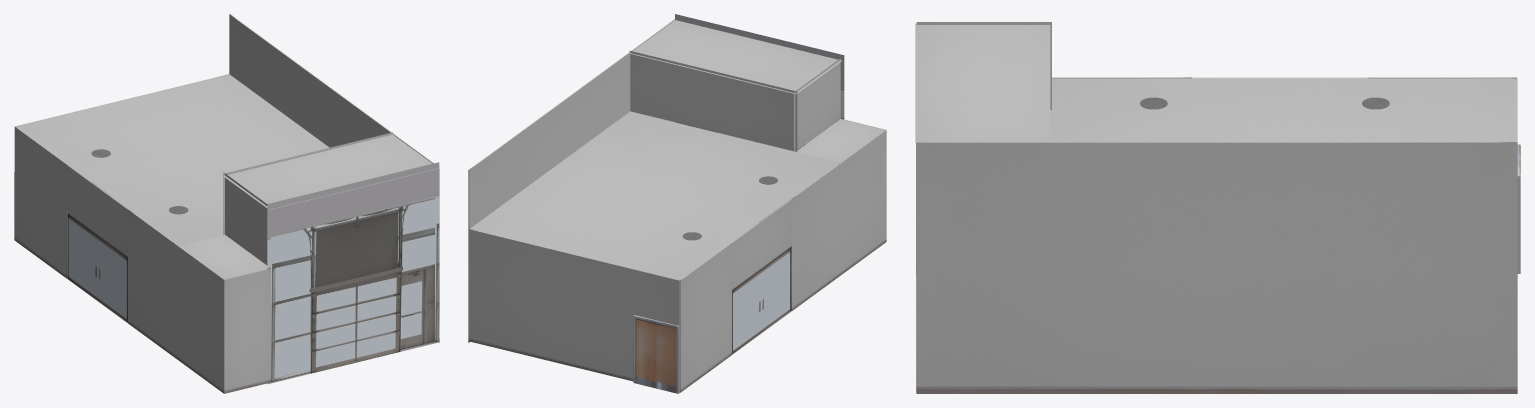
File: newblendertest.gltf
3 views of the same model, side by side, from view 1: azimuth 30°, elevation 25°; view 2: azimuth 150°, elevation 25°; view 3: azimuth 270°, elevation 25° (orthographic). The views are drawn at different scales.
Parts seen in each view (by area): view 1: frontdoor, ceiling, frontwallleft.001, backwall, ceiling2.003, frontwallleft, windowwall.000, sidedoor, blankwall1, ceiling2.001, ceiling2.002, ceiling2.000; view 2: ceiling, windowwall.001, frontwallleft.001, ceiling2.000, backwall, ceiling2.003, frontwallleft, sidedoor, door, blankwall1, ceiling2.001, ceiling2.002 (+1 smaller); view 3: backwall, ceiling, ceiling2.003, ceiling2.001, door.
Part boxes in pixels (x1,y1,x2,y2): frontdoor: [267, 162, 439, 384]; ceiling: [16, 74, 329, 245]; frontwallleft.001: [128, 209, 225, 393]; backwall: [229, 14, 439, 342]; ceiling2.003: [222, 134, 438, 209]; frontwallleft: [14, 126, 67, 278]; windowwall.000: [225, 268, 270, 393]; sidedoor: [67, 211, 127, 322]; blankwall1: [65, 164, 128, 255]; ceiling2.001: [223, 172, 267, 265]; ceiling2.002: [179, 235, 267, 279]; ceiling2.000: [223, 132, 393, 234]; ceiling: [470, 111, 839, 279]; windowwall.001: [468, 229, 679, 381]; frontwallleft.001: [791, 129, 886, 310]; ceiling2.000: [629, 51, 797, 151]; backwall: [468, 19, 675, 342]; ceiling2.003: [630, 20, 842, 94]; frontwallleft: [679, 243, 731, 392]; sidedoor: [732, 245, 791, 354]; door: [633, 315, 679, 393]; blankwall1: [730, 199, 792, 289]; ceiling2.001: [794, 58, 840, 152]; ceiling2.002: [796, 119, 884, 162]; backwall: [916, 142, 1517, 393]; ceiling: [1050, 78, 1515, 141]; ceiling2.003: [915, 23, 1050, 142]; ceiling2.001: [916, 22, 1051, 109]; door: [1517, 144, 1520, 273].
Size of the model in its own units: 23.17 by 18.56 by 39.28.
Materials: 8 (8 with a texture image).
